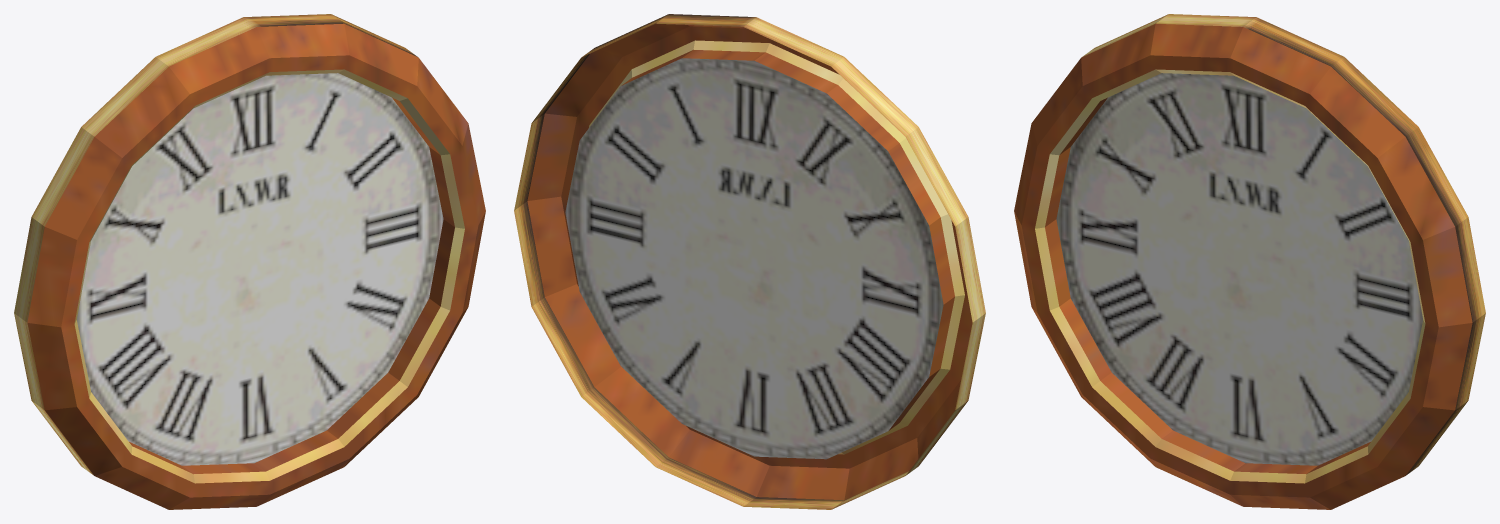
Rendered from clock-face.glb.
3 views of the same model, side by side, from view 1: azimuth 30°, elevation 25°; view 2: azimuth 150°, elevation 25°; view 3: azimuth 330°, elevation 25° (orthographic).
Parts seen in each view (by area): view 1: Clock; view 2: Clock; view 3: Clock.
Boxes of the visible parts, x1,y1,x2,y2 form: Clock: (14, 14, 485, 509); Clock: (514, 14, 985, 509); Clock: (1014, 14, 1485, 509).
Size of the model in its own units: 0.3 by 0.3 by 0.03.
Materials: 3 (3 with a texture image).
